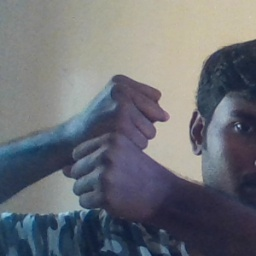G: (65, 73, 174, 218)
